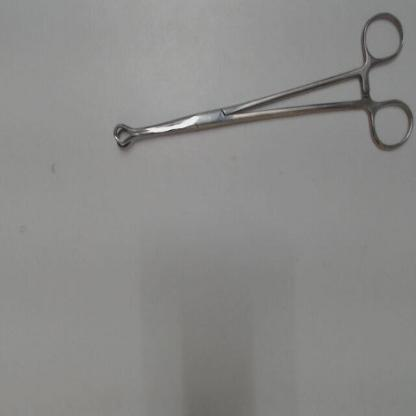8 Babcock Tissue Forceps: (108, 4, 414, 160)
